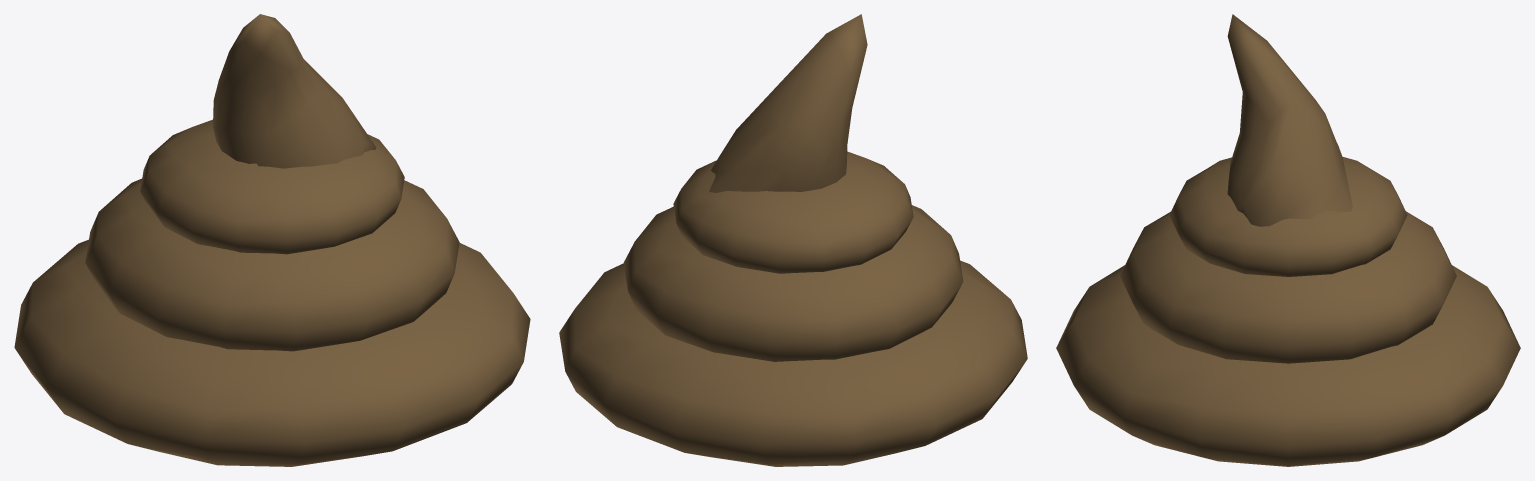
Rendered from Poop.fbx.
3 renders of one model, left to right at view 1: azimuth 30°, elevation 25°; view 2: azimuth 150°, elevation 25°; view 3: azimuth 270°, elevation 25°, orthographic. The views are drawn at different scales.
Parts seen in each view (by area): view 1: Cube; view 2: Cube; view 3: Cube.
Part boxes in pixels (bbox=[...]): Cube: bbox=[14, 14, 530, 466]; Cube: bbox=[559, 14, 1027, 466]; Cube: bbox=[1056, 14, 1520, 466].
Bounding box in the file's own units: 2.84 × 2.6 × 2.84.
